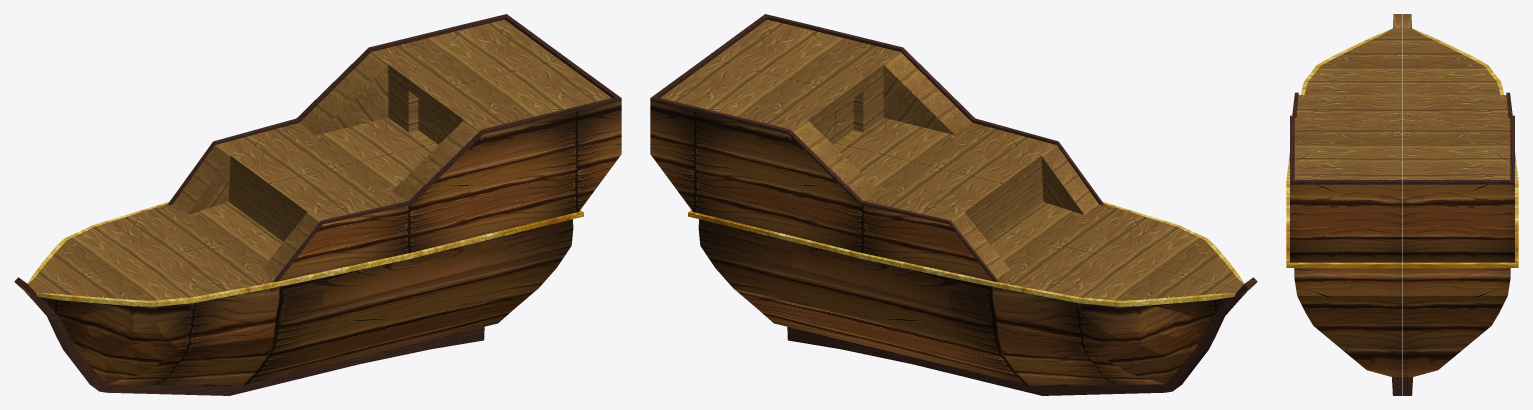
File: Bateau_Base.fbx
3 views of the same model, side by side, from view 1: azimuth 30°, elevation 25°; view 2: azimuth 150°, elevation 25°; view 3: azimuth 270°, elevation 25° (orthographic). The views are drawn at different scales.
Visible parts, largest first — view 1: polySurface5; view 2: polySurface5; view 3: polySurface5.
Part boxes in pixels (left/top/right/bottom): polySurface5: left=14, top=14, right=621, bottom=395; polySurface5: left=650, top=14, right=1257, bottom=395; polySurface5: left=1286, top=14, right=1518, bottom=395.
Size of the model in its own units: 8.76 by 3.99 by 3.3.
6 materials, 5 textured.
